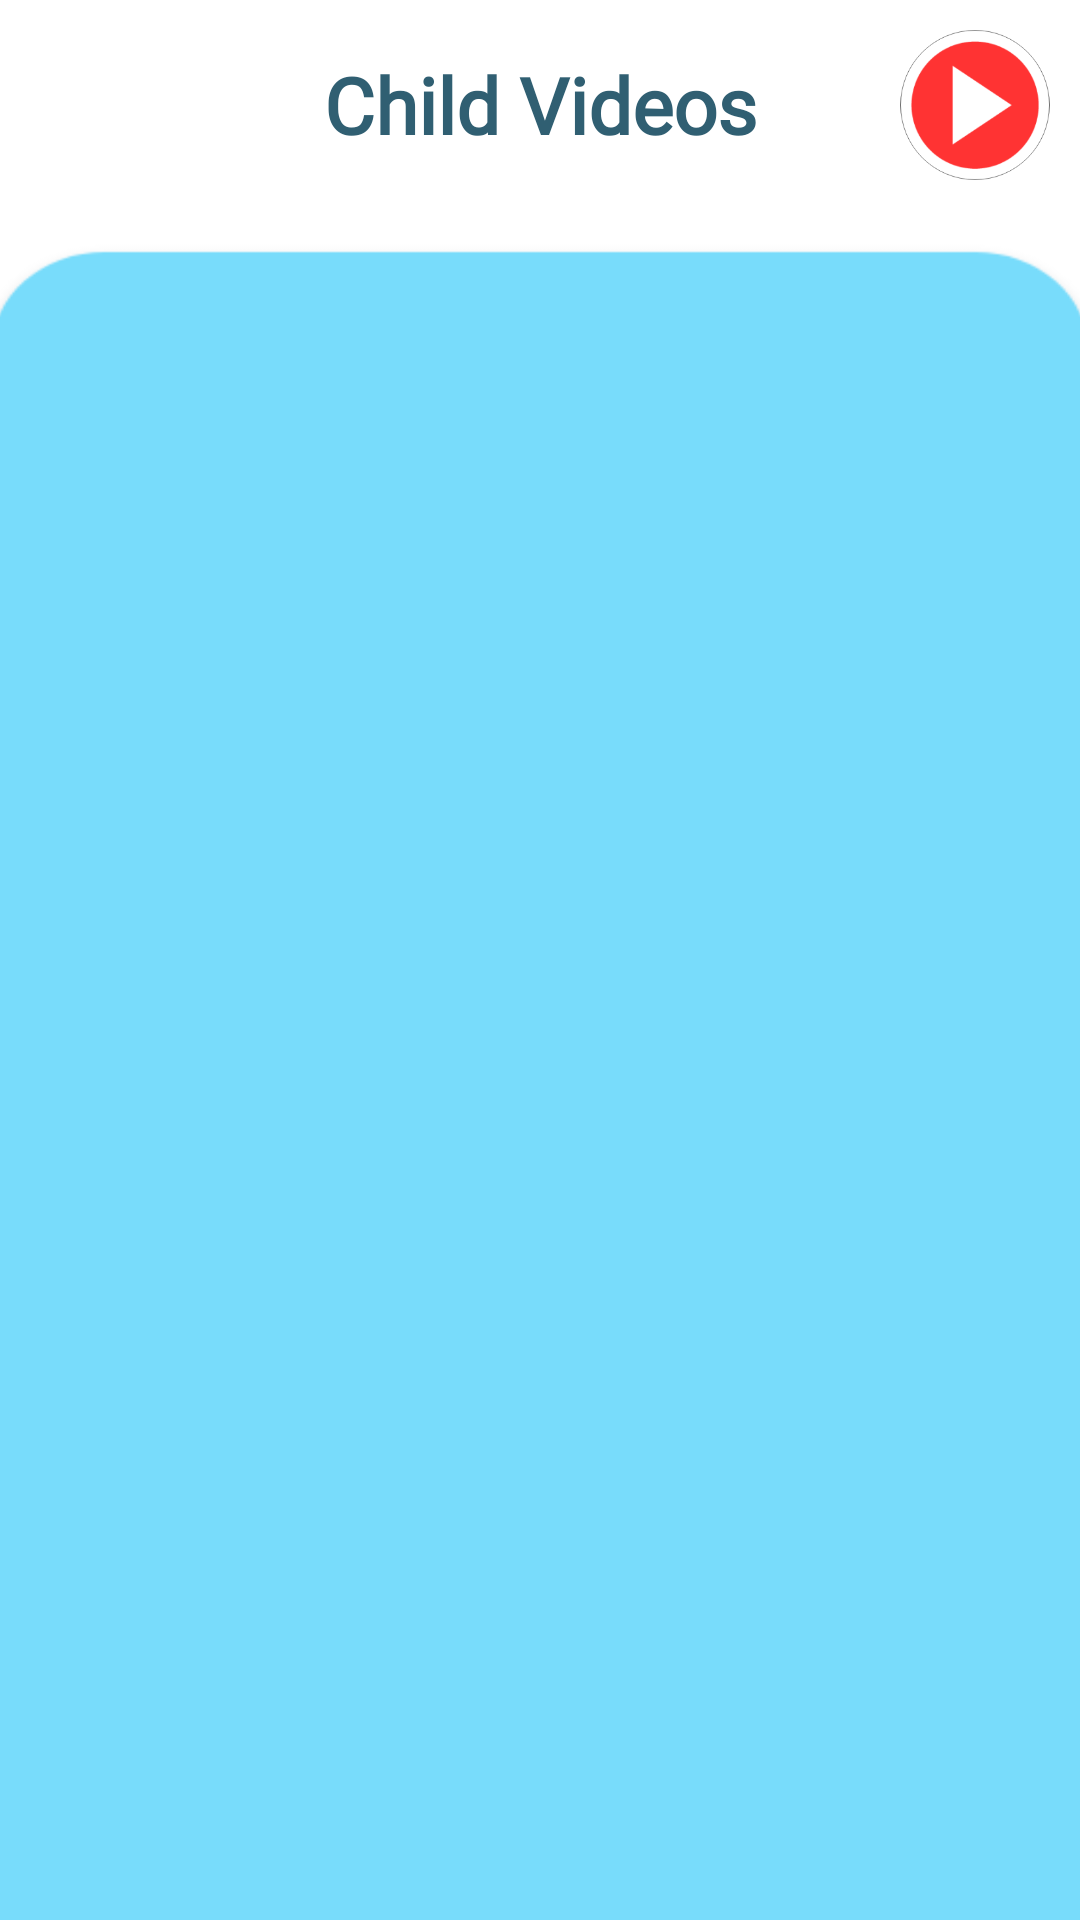

Icon click points for this 1080px x 1920px phone screenshot, format point (x, y):
playicon: point (975, 105)
